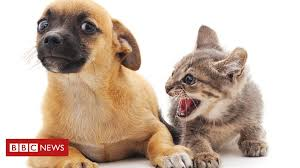cat: (159, 20, 252, 130)
dog: (28, 1, 144, 81)
